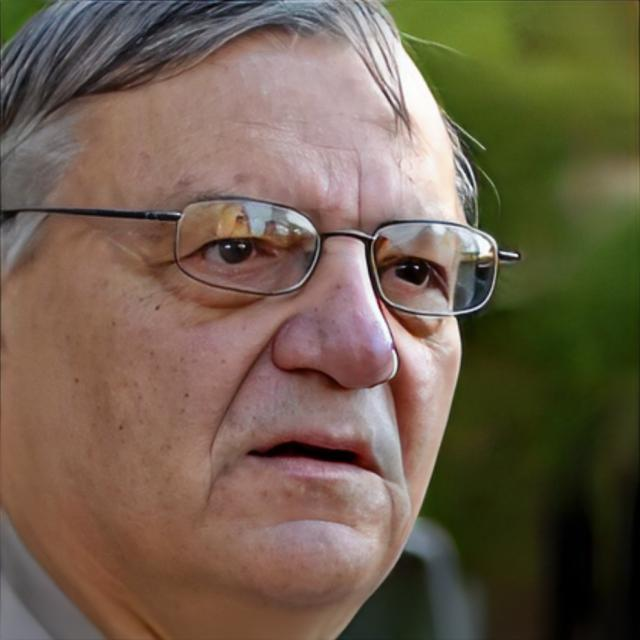disgust: (0, 1, 465, 608)
